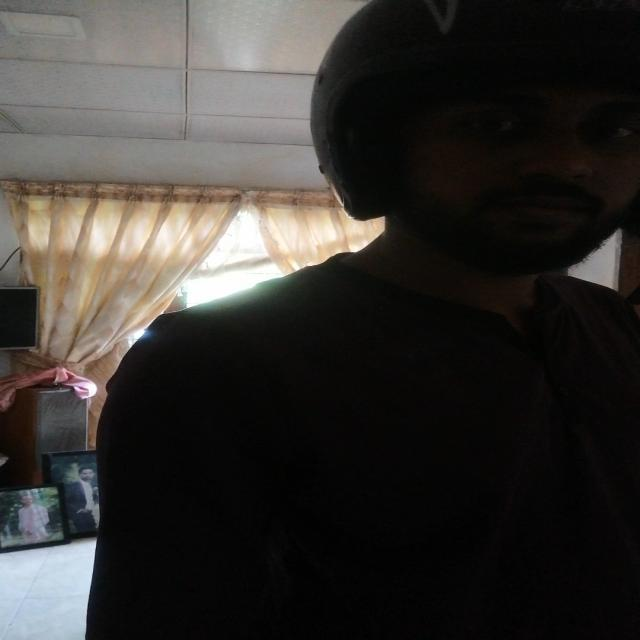Helmet_Wearer: (302, 0, 640, 275)
Person: (129, 0, 640, 640)
